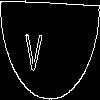V: (25, 25, 43, 72)
